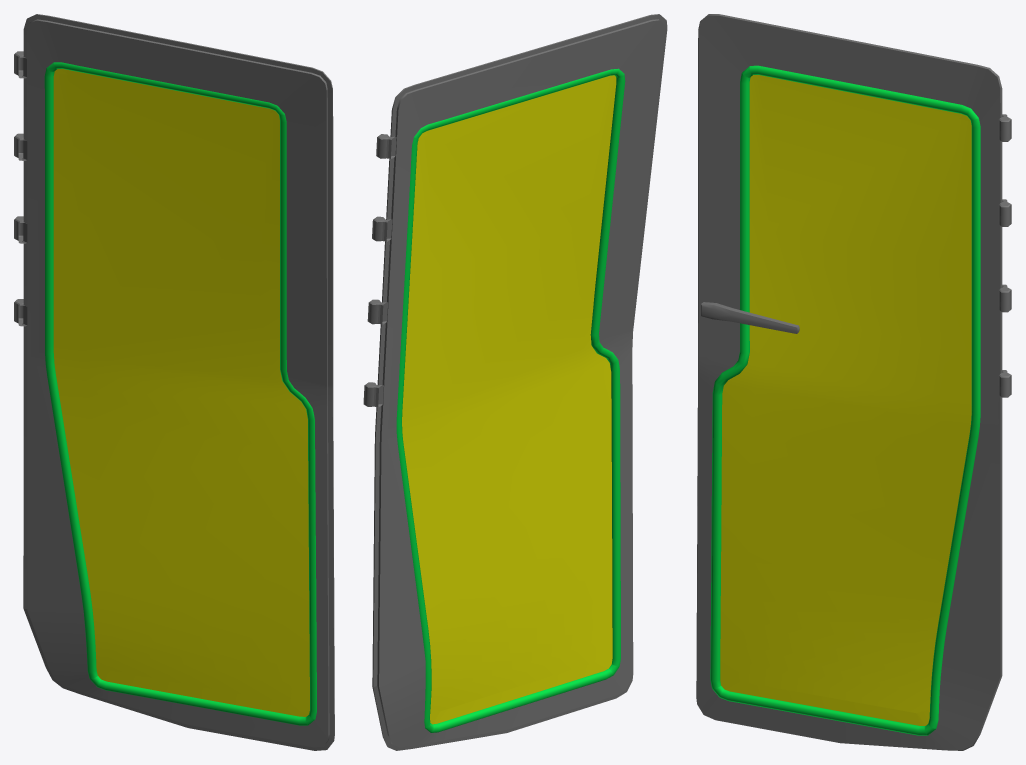
File: Earthmover_Body_Door_01a_snaps005.fbx
3 views of the same model, side by side, from view 1: azimuth 90°, elevation 25°; view 2: azimuth 150°, elevation 25°; view 3: azimuth 270°, elevation 25° (orthographic).
Visible parts, largest first — view 1: Earthmover_Body_05a_snaps005; view 2: Earthmover_Body_05a_snaps005; view 3: Earthmover_Body_05a_snaps005.
Boxes of the visible parts, left/top/right/bottom form: Earthmover_Body_05a_snaps005: left=14, top=14, right=334, bottom=750; Earthmover_Body_05a_snaps005: left=363, top=14, right=667, bottom=750; Earthmover_Body_05a_snaps005: left=696, top=14, right=1011, bottom=750.
Bounding box in the file's own units: 39.18 × 175 × 72.48.
